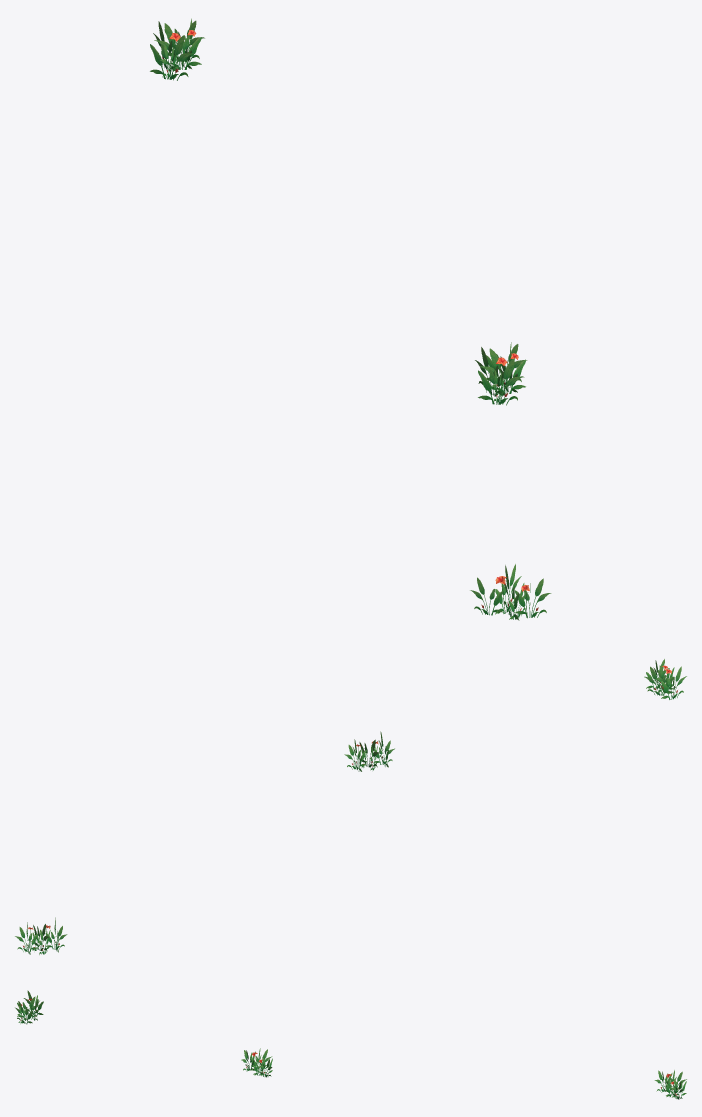
File: area_06_12.fbx
3 renders of one model, top to bottom at view 1: azimuth 30°, elevation 25°; view 2: azimuth 150°, elevation 25°; view 3: azimuth 270°, elevation 25°, orthographic. The views are drawn at different scales.
Parts seen in each view (by area): view 1: area_06_12; view 2: area_06_12; view 3: area_06_12.
Boxes of the visible parts, x1,y1,x2,y2 form: area_06_12: [150, 18, 551, 620]; area_06_12: [15, 659, 686, 954]; area_06_12: [15, 990, 686, 1099].
Bounding box in the file's own units: 12.5 × 1.55 × 39.47.
